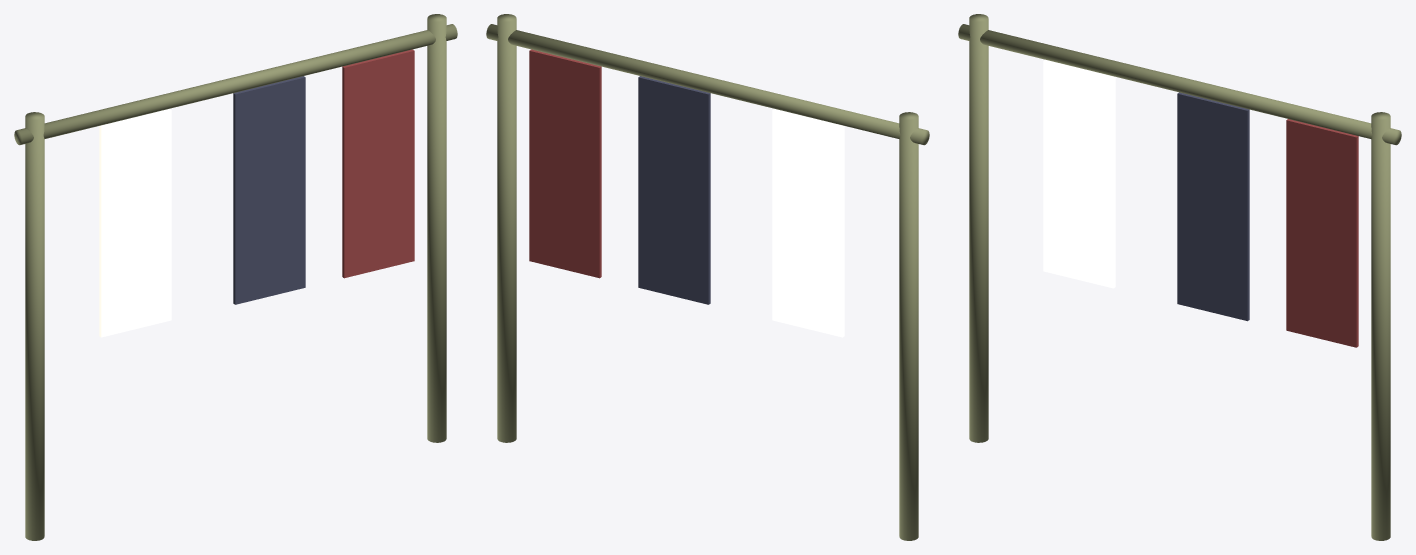
The model's file is prop_monohoshi.glb.
3 views of the same model, side by side, from view 1: azimuth 30°, elevation 25°; view 2: azimuth 150°, elevation 25°; view 3: azimuth 330°, elevation 25° (orthographic).
Parts seen in each view (by area): view 1: monohoshi; view 2: monohoshi; view 3: monohoshi.
Part boxes in pixels (x1=…): monohoshi: x1=14, y1=14, x2=457, y2=540; monohoshi: x1=486, y1=14, x2=929, y2=540; monohoshi: x1=958, y1=14, x2=1401, y2=540.
Bounding box in the file's own units: 2.6 × 2.4 × 0.1.
